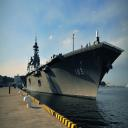Portanaves: (20, 31, 127, 103)
